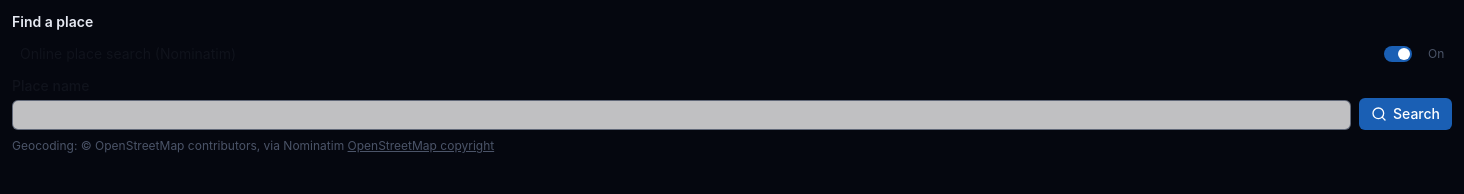
it: PlaceSearch › ignores an empty query, omits the email when absent and reports no results
Submit the form "Place name", box [12,76,1452,130]
Type "Nowhere" into the field labelled "Place name" at [682, 115], box [12,100,1351,130]
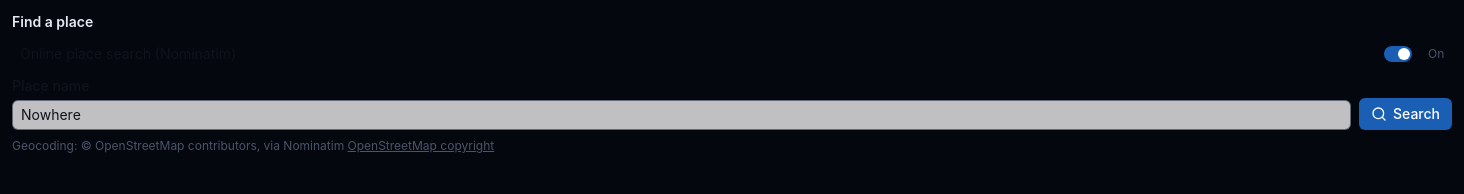
Submit the form "Place name", box [12,76,1452,130]
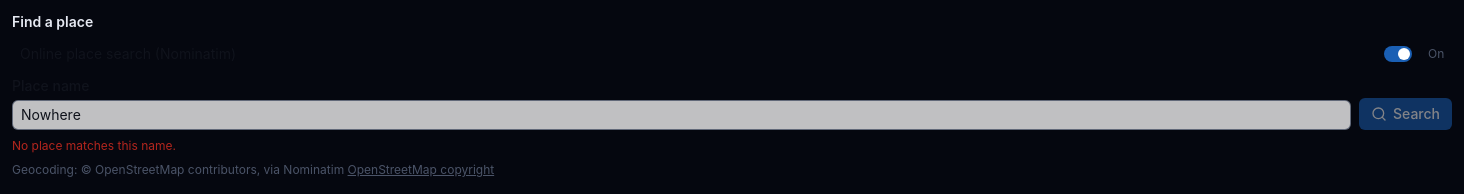
expect the message reads "No place matches this name.": met, box [12,138,176,153]
